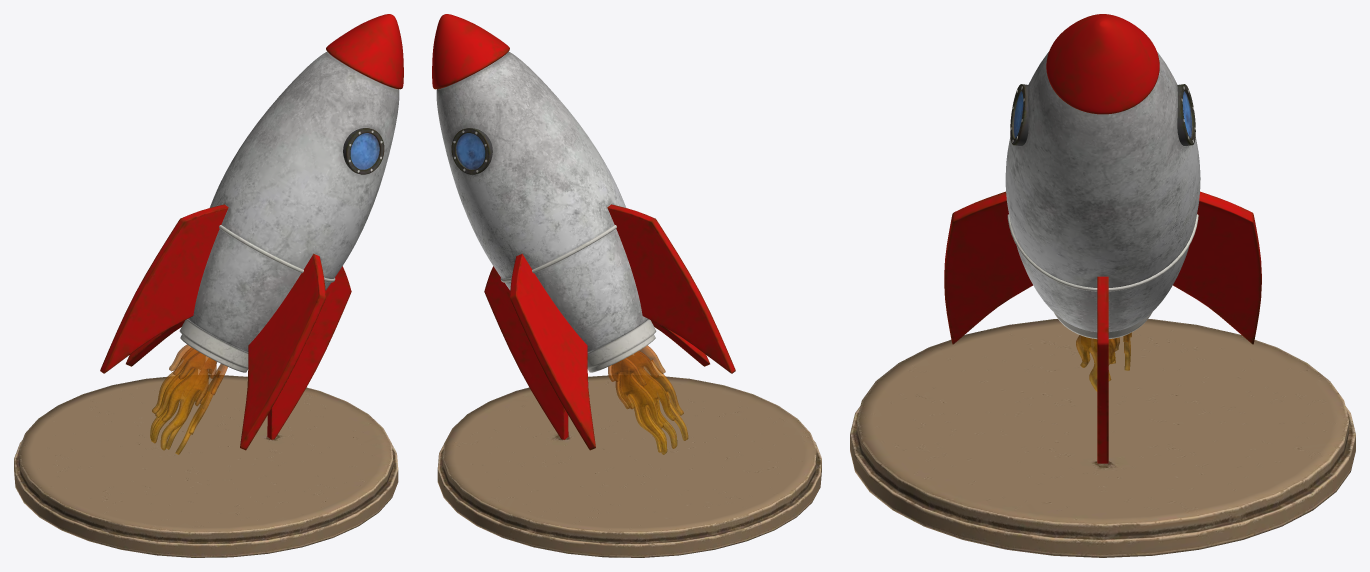
Rendered from compressed_startuprocket.glb.
3 renders of one model, left to right at view 1: azimuth 30°, elevation 25°; view 2: azimuth 150°, elevation 25°; view 3: azimuth 270°, elevation 25°, orthographic. The views are drawn at different scales.
Visible parts, largest first — view 1: defaultMaterial.006, defaultMaterial.005, defaultMaterial.004, defaultMaterial, defaultMaterial.003, defaultMaterial.001, defaultMaterial.002; view 2: defaultMaterial.006, defaultMaterial.005, defaultMaterial.004, defaultMaterial, defaultMaterial.003, defaultMaterial.001, defaultMaterial.002; view 3: defaultMaterial.006, defaultMaterial.005, defaultMaterial.004, defaultMaterial.003, defaultMaterial.002, defaultMaterial.
Boxes of the visible parts, x1,y1,x2,y2 form: defaultMaterial.006: [14, 375, 398, 557]; defaultMaterial.005: [187, 51, 399, 352]; defaultMaterial.004: [100, 14, 403, 450]; defaultMaterial: [150, 344, 227, 454]; defaultMaterial.003: [179, 130, 382, 372]; defaultMaterial.001: [350, 133, 379, 169]; defaultMaterial.002: [343, 128, 384, 174]; defaultMaterial.006: [437, 375, 821, 557]; defaultMaterial.005: [436, 51, 648, 352]; defaultMaterial.004: [432, 14, 735, 450]; defaultMaterial: [608, 345, 688, 454]; defaultMaterial.003: [453, 130, 656, 372]; defaultMaterial.001: [456, 133, 485, 169]; defaultMaterial.002: [451, 128, 492, 174]; defaultMaterial.006: [850, 319, 1355, 557]; defaultMaterial.005: [1005, 52, 1200, 331]; defaultMaterial.004: [944, 14, 1261, 463]; defaultMaterial.003: [1007, 86, 1198, 338]; defaultMaterial.002: [1010, 84, 1195, 145]; defaultMaterial: [1076, 332, 1131, 391].
Bounding box in the file's own units: 1.8 × 2 × 1.67.
Materials: 7 (7 with a texture image).
